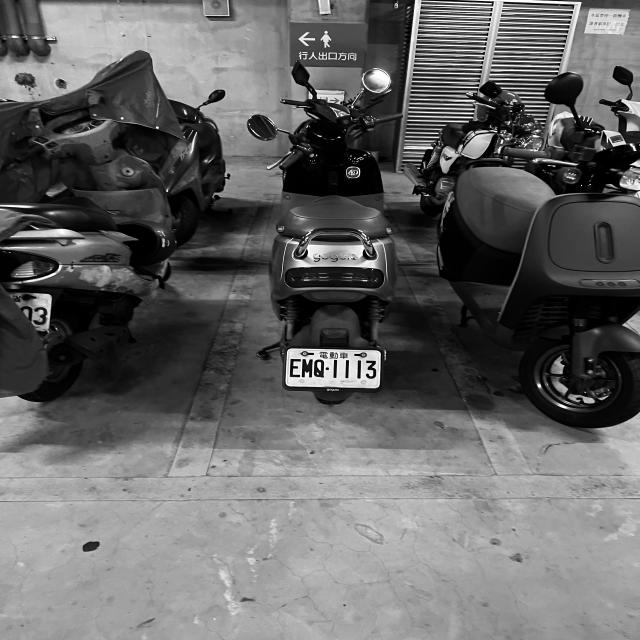-: (326, 367, 329, 371)
1: (332, 358, 338, 379), (356, 360, 362, 380), (346, 359, 350, 378)
3: (32, 306, 48, 326), (363, 360, 377, 380)
E: (289, 358, 301, 378)
M: (302, 358, 312, 378)
Q: (314, 358, 324, 378)
plate: (288, 349, 378, 388)
